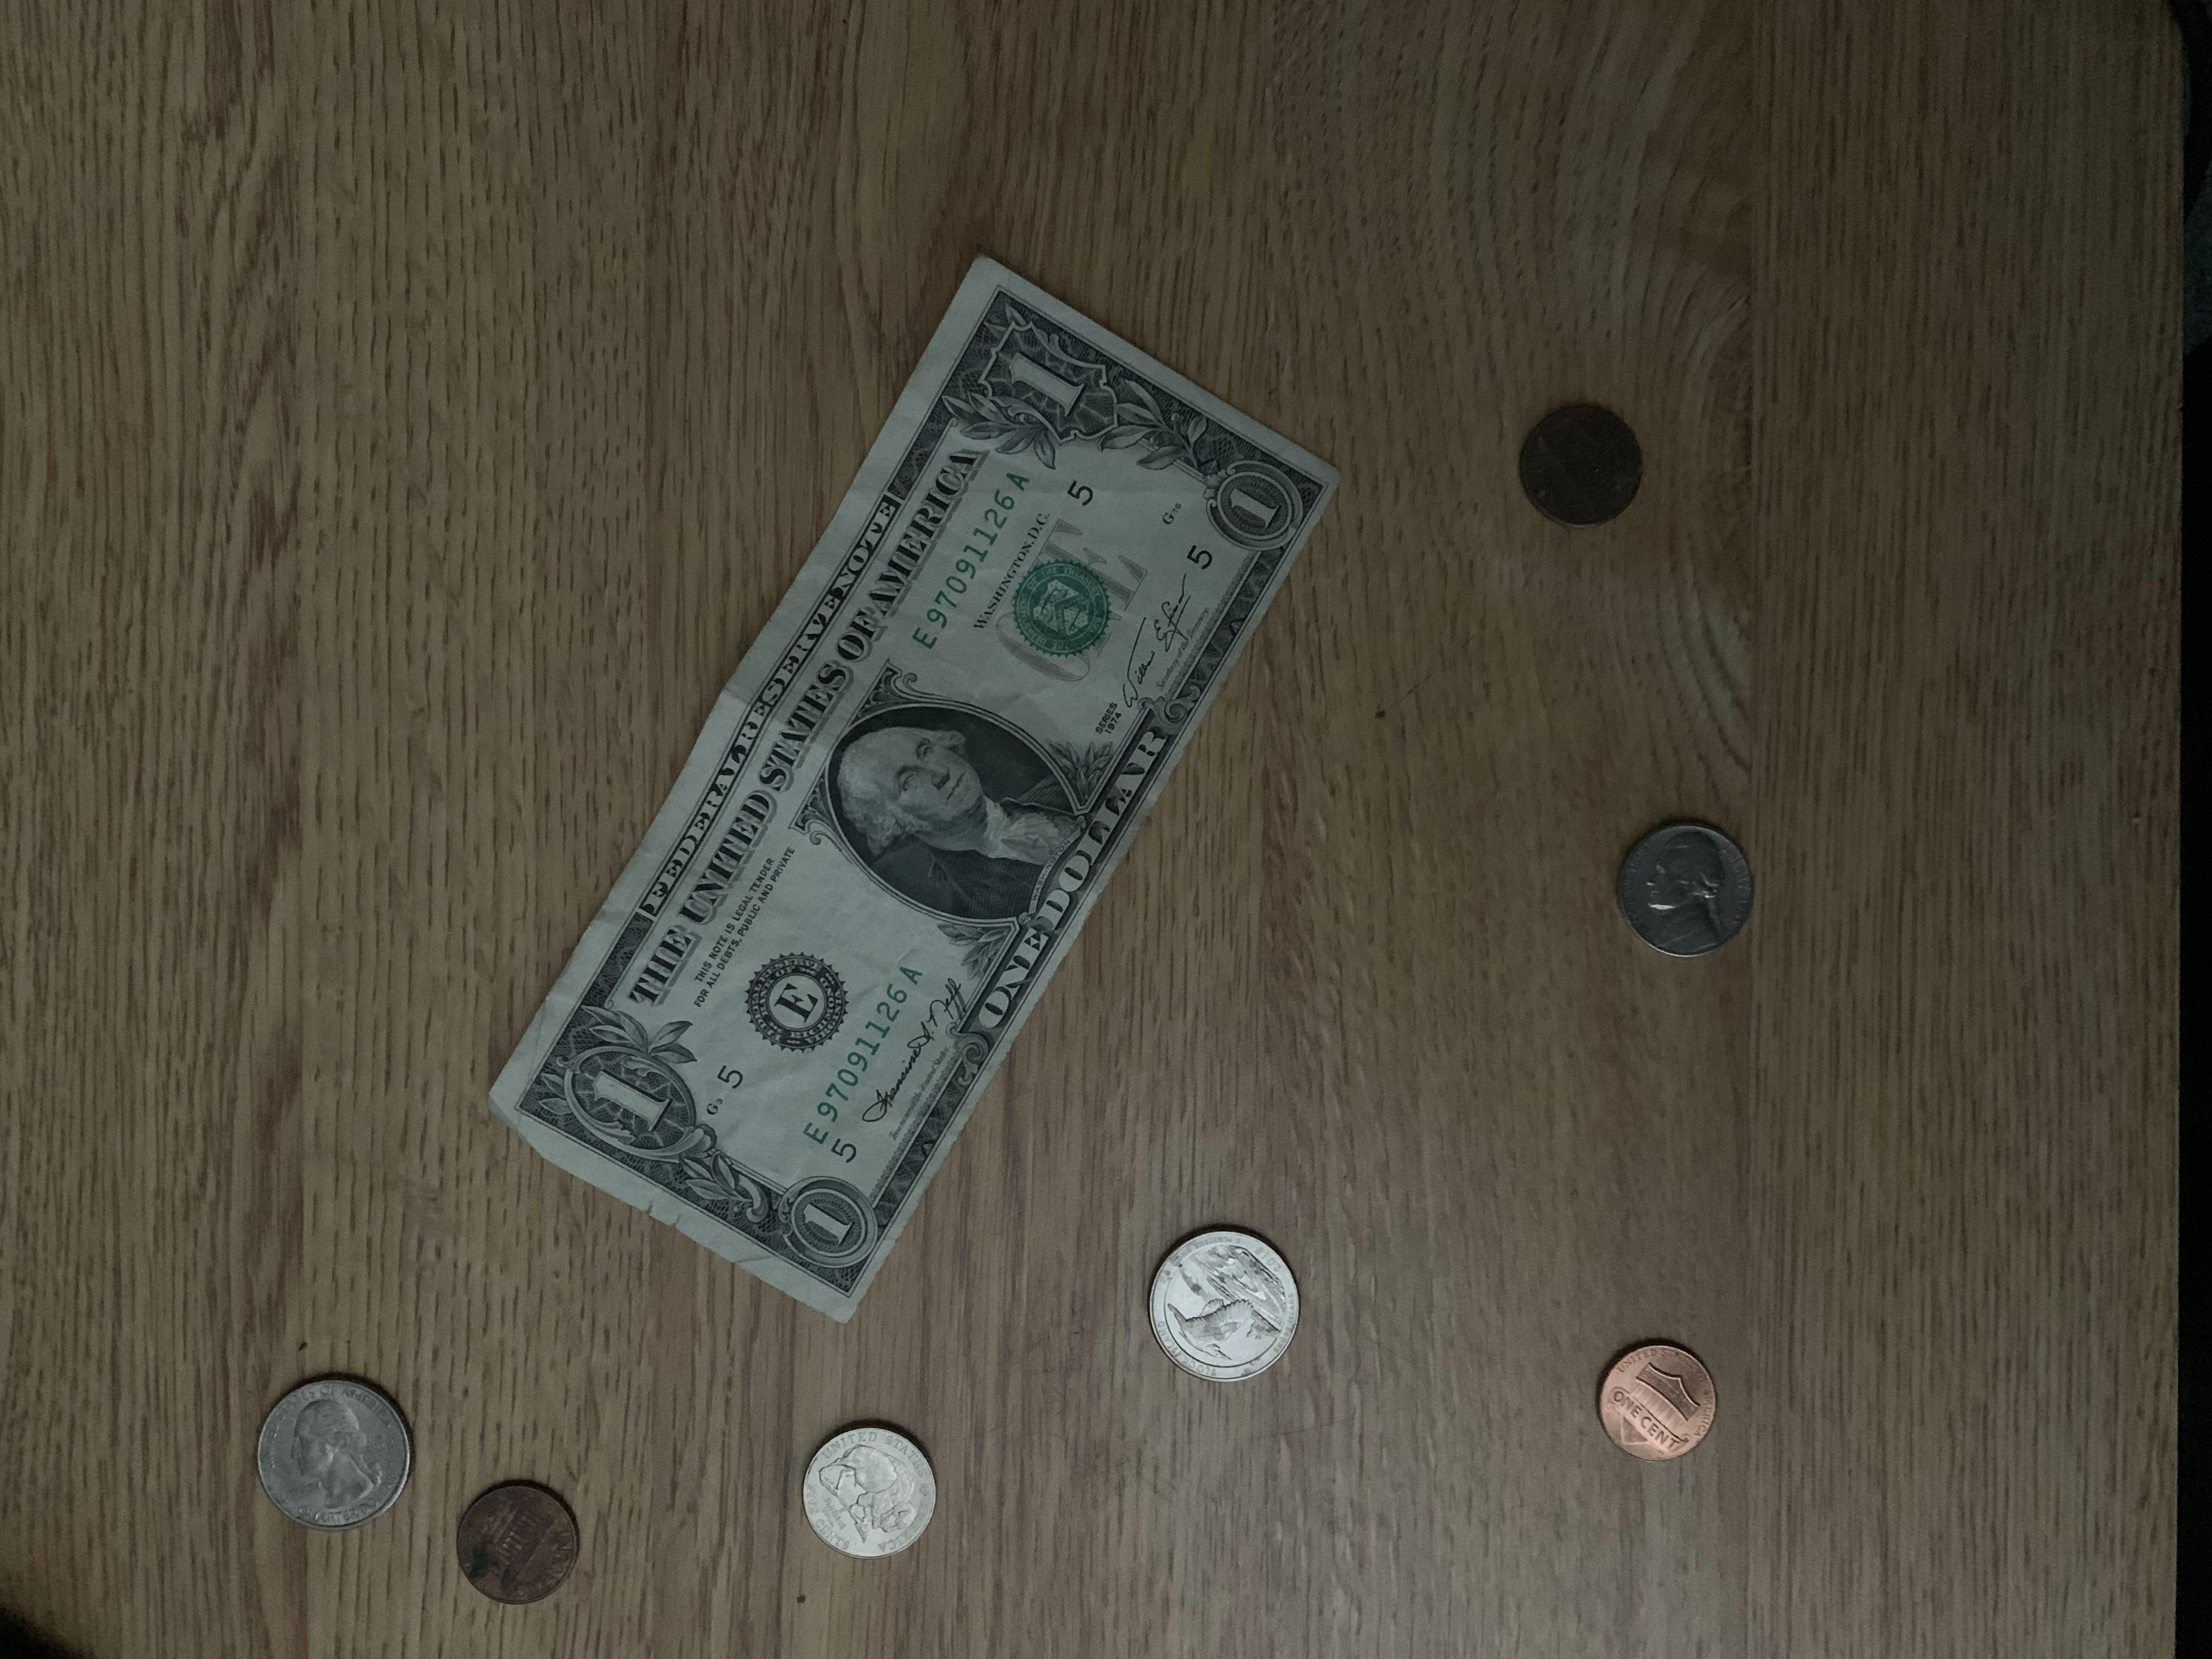Nickel: (1606, 821, 1764, 962), (794, 1420, 948, 1561)
OneBill: (486, 240, 1362, 1324)
Penny: (1514, 401, 1655, 532), (451, 1474, 583, 1612), (1597, 1338, 1728, 1460)
Quarter: (244, 1375, 420, 1542), (1141, 1223, 1306, 1387)
